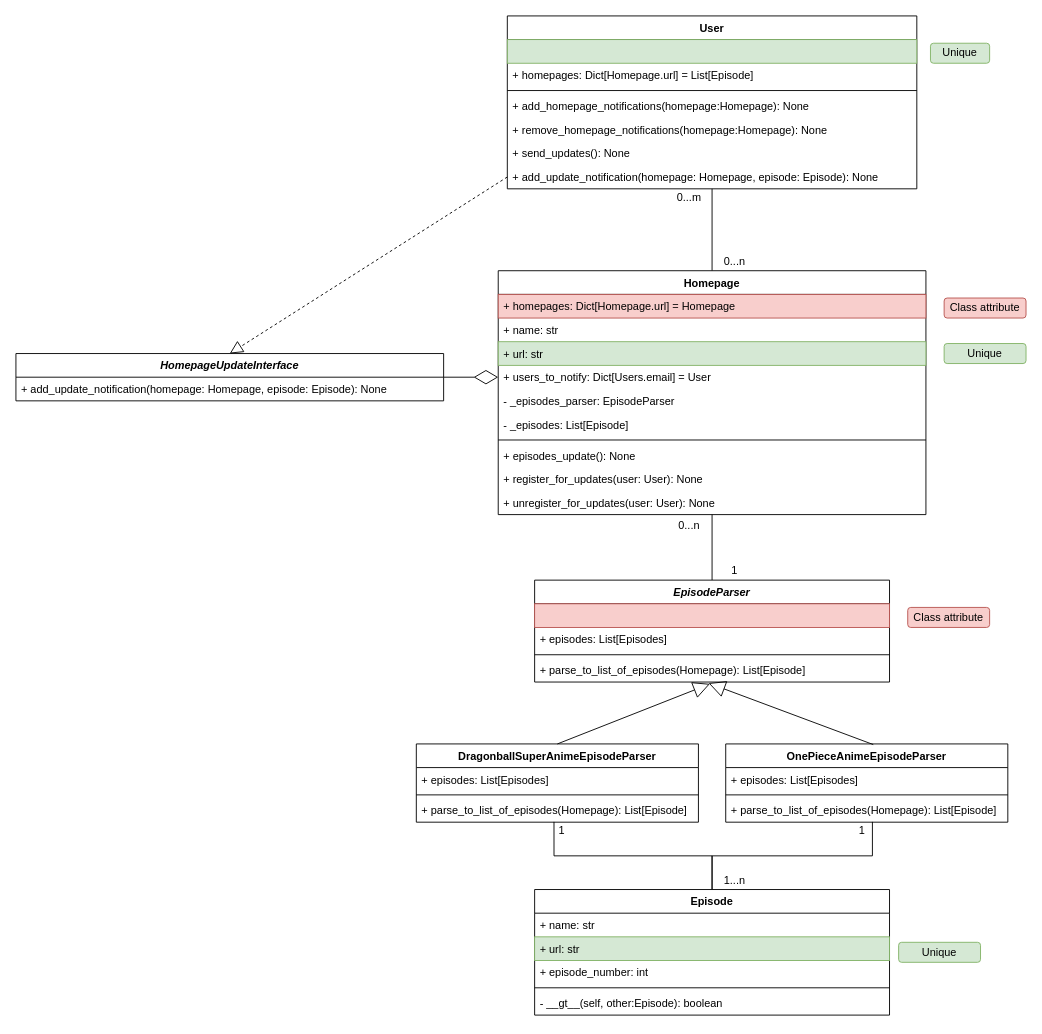
Image size: 1042x1034. Some labels were removed from this diagram. Each missing label, with the centre of its shape:
"+ email: str" goes at [711,51].
"+ episode_parsers: Dict[EpisodeParser.__name__] = EpisodeParser" goes at [712,615].
